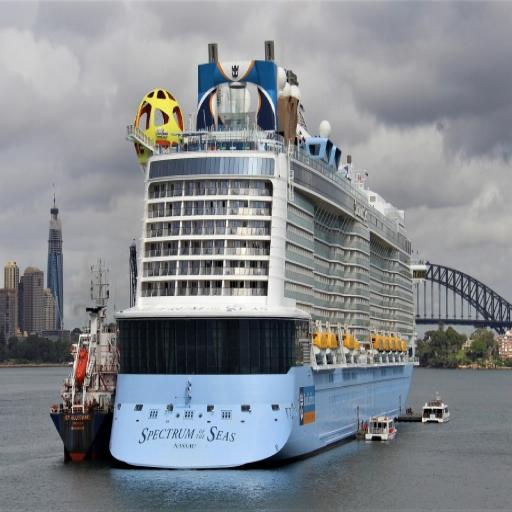cruises: (106, 37, 423, 478)
